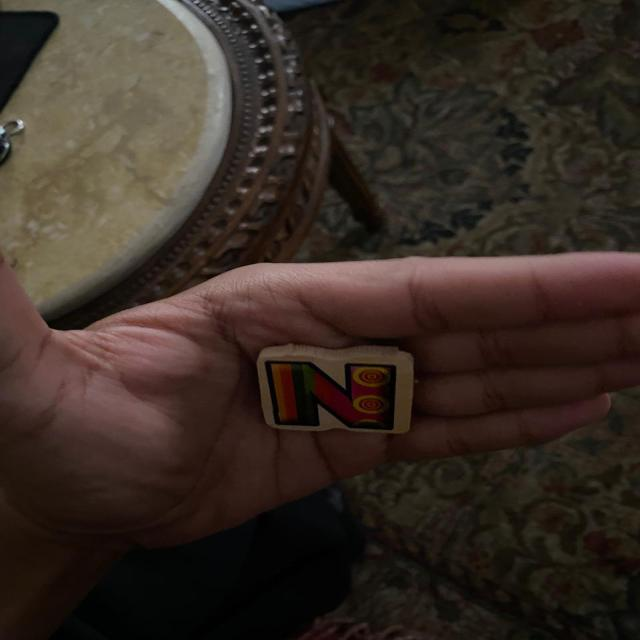N: (257, 345, 413, 434)
